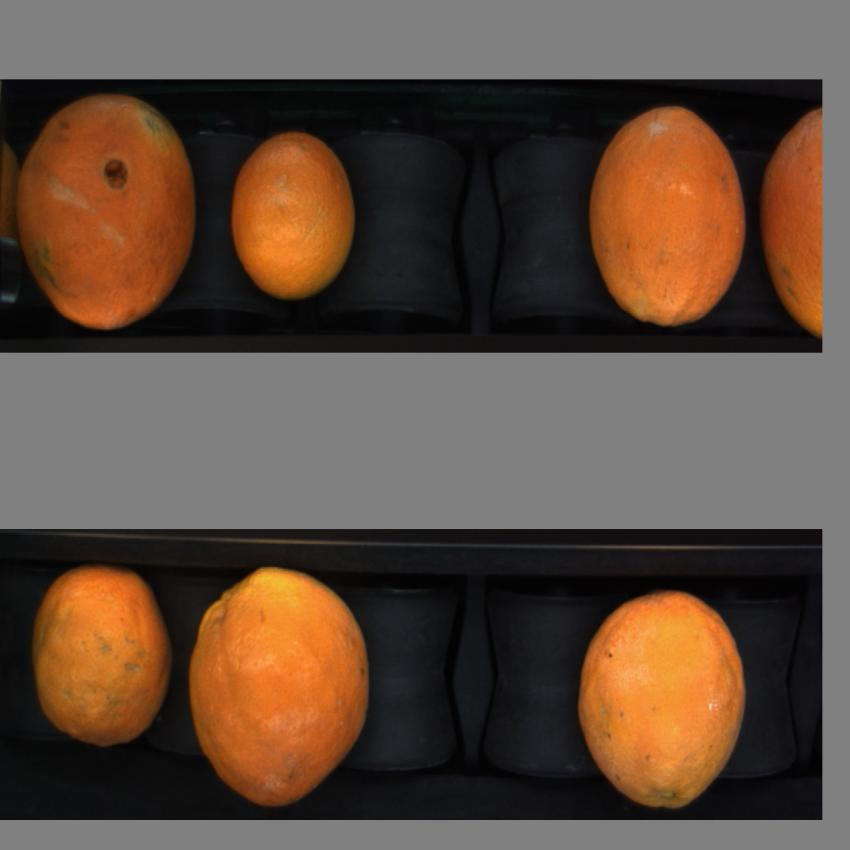Buen estado: (179, 567, 391, 812), (571, 581, 754, 815), (583, 102, 751, 335), (26, 563, 176, 756), (225, 122, 371, 299), (760, 111, 826, 334)
Mal estado: (14, 91, 200, 335)
